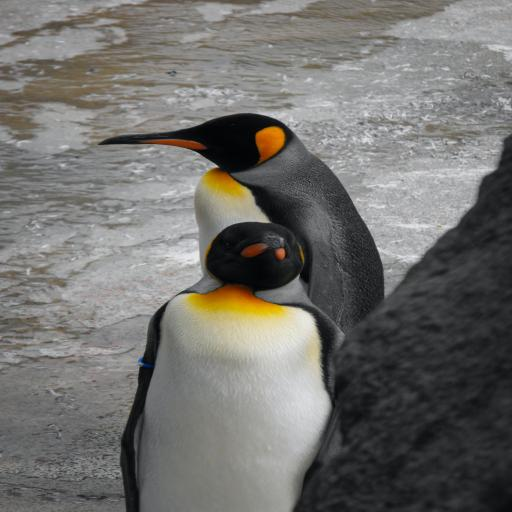penguins: (121, 222, 343, 512), (100, 114, 384, 332)
